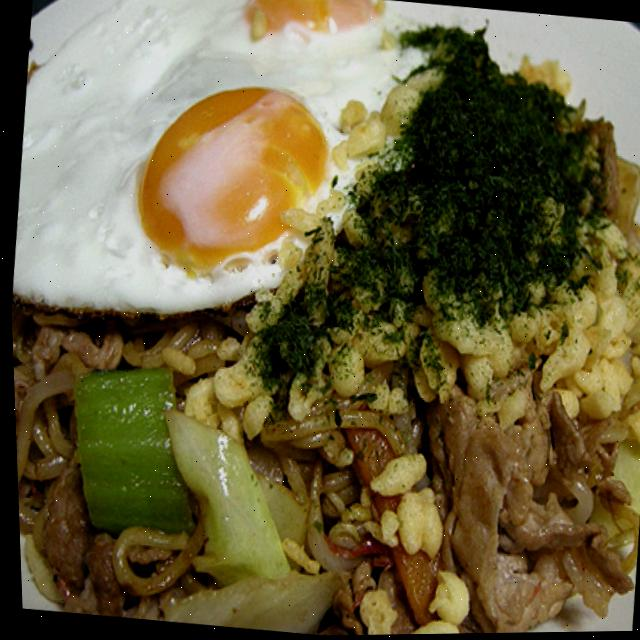鸡蛋料理: (2, 0, 460, 322)
